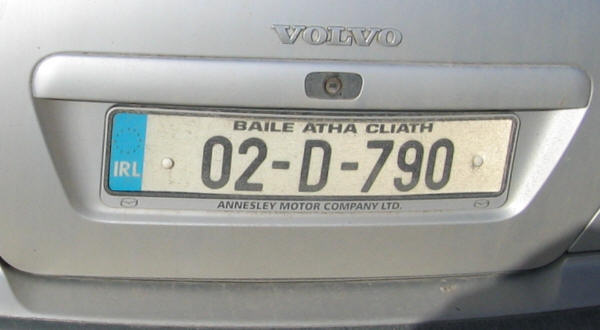license_plate: (99, 104, 520, 207)
